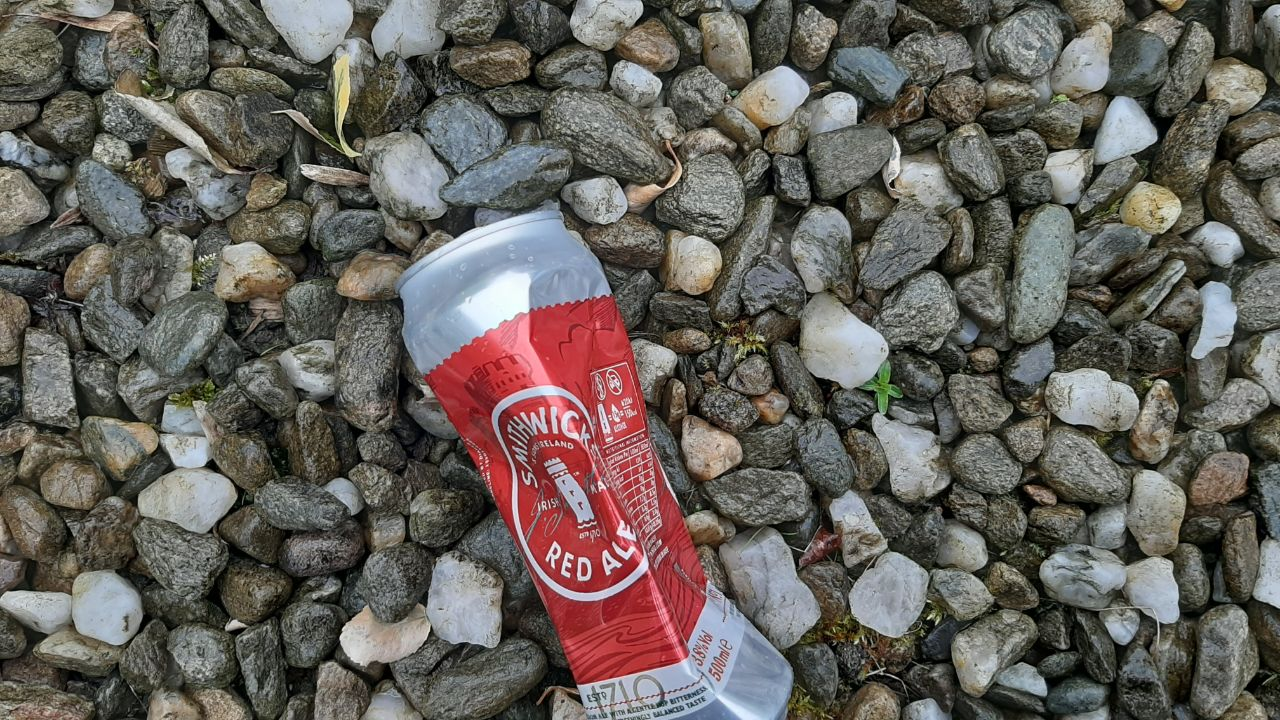Can: (395, 212, 795, 720)
